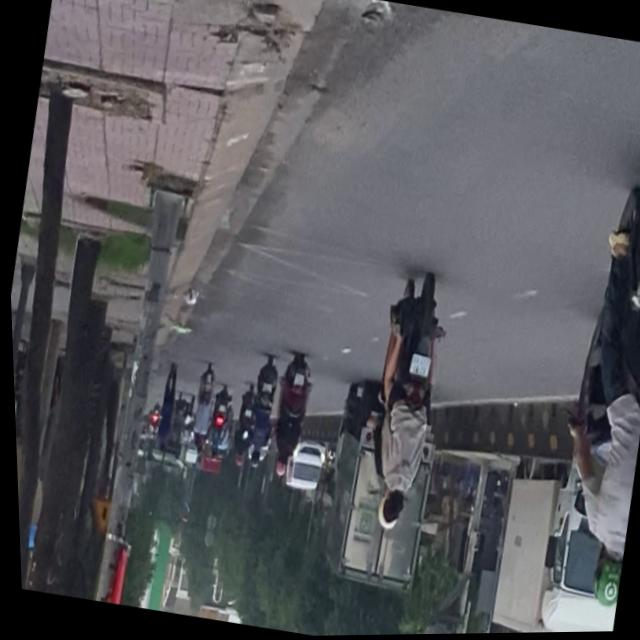helmet: (582, 550, 621, 612)
licenseplate: (527, 153, 640, 618), (345, 269, 462, 538)
motorcyclist: (373, 488, 405, 535)
nohelmet: (406, 355, 429, 380)
